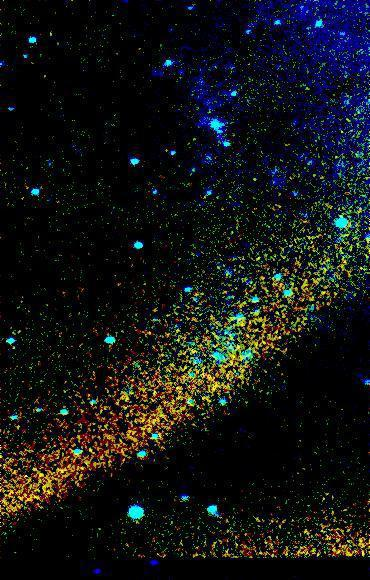star: (206, 121, 236, 151)
